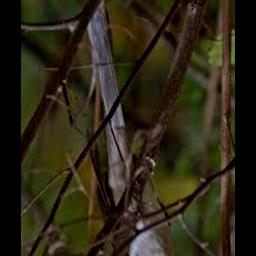Cuckoo: (84, 13, 194, 256)
